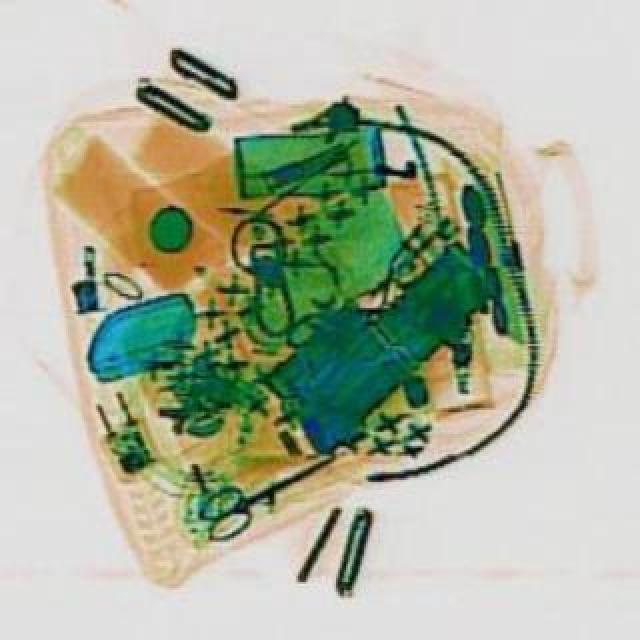pliers: (186, 432, 344, 540)
